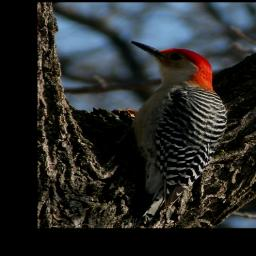Woodpecker: (111, 39, 231, 225)
